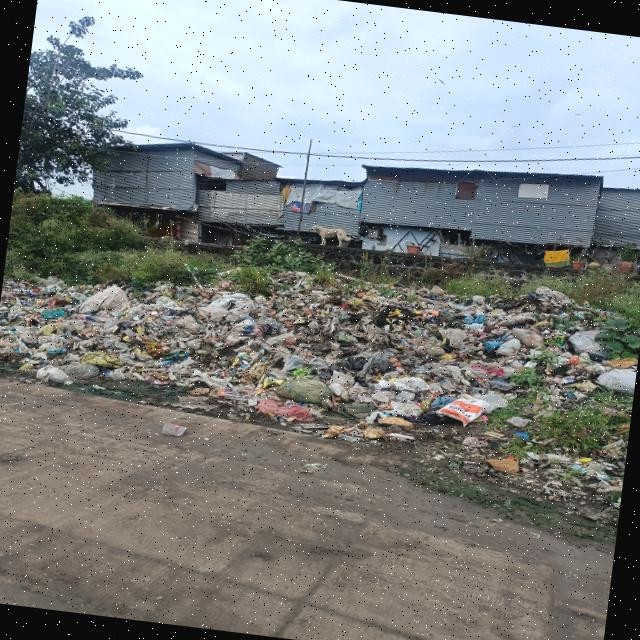garbage: (253, 261, 640, 464), (0, 272, 331, 423)
